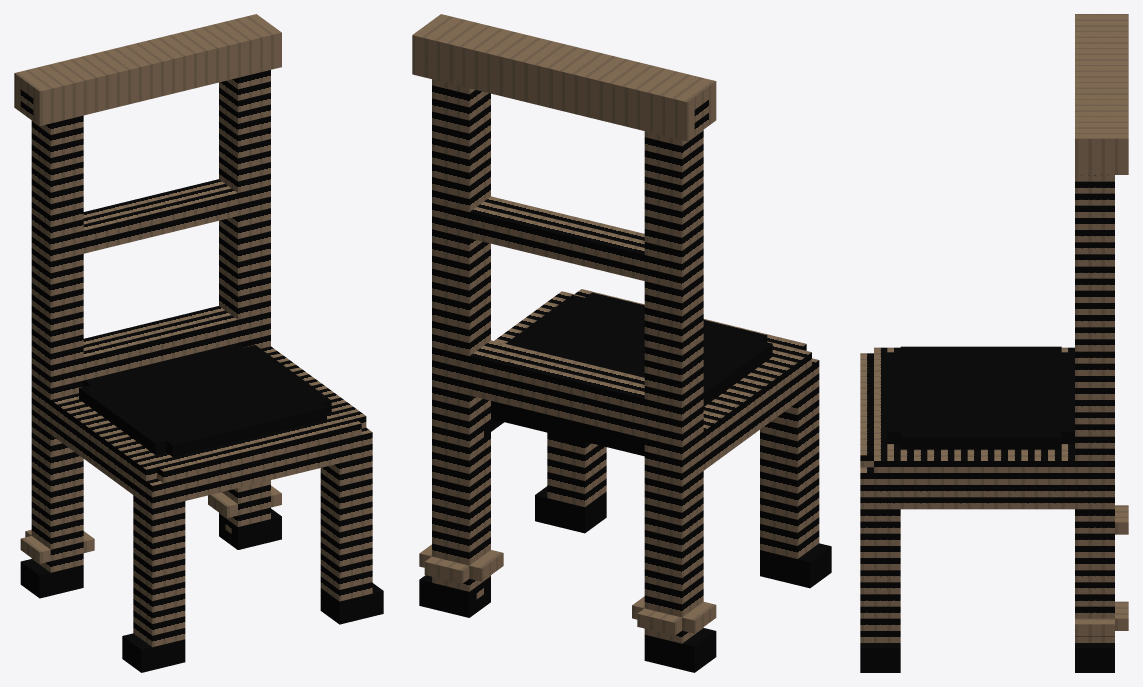
The model's file is Chair2.fbx.
The picture shows the model from 3 angles, left to right: view 1: azimuth 30°, elevation 25°; view 2: azimuth 150°, elevation 25°; view 3: azimuth 270°, elevation 25°; orthographic projection. The views are drawn at different scales.
Visible parts, largest first — view 1: Box_5; view 2: Box_5; view 3: Box_5.
Boxes of the visible parts, left/top/right/bottom form: Box_5: left=14, top=14, right=383, bottom=672; Box_5: left=412, top=14, right=831, bottom=672; Box_5: left=860, top=14, right=1128, bottom=672.
Bounding box in the file's own units: 22 × 44 × 20.
